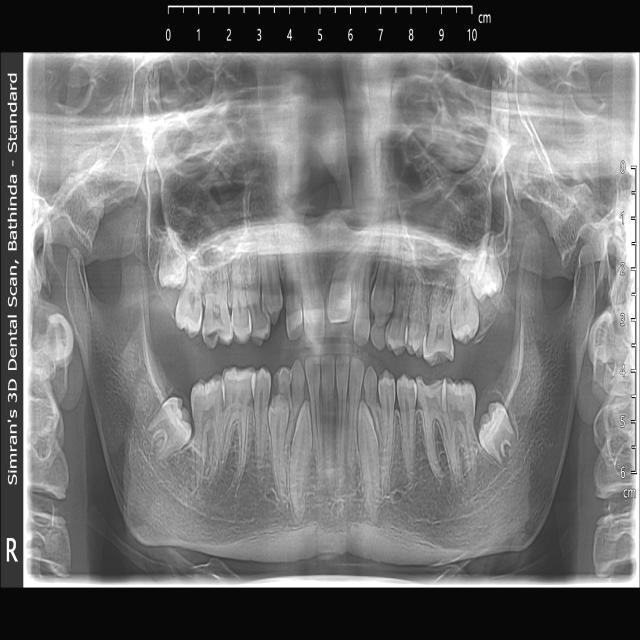Caries: (203, 296, 230, 349), (273, 372, 280, 389)
impacted tooth: (156, 232, 186, 293)
